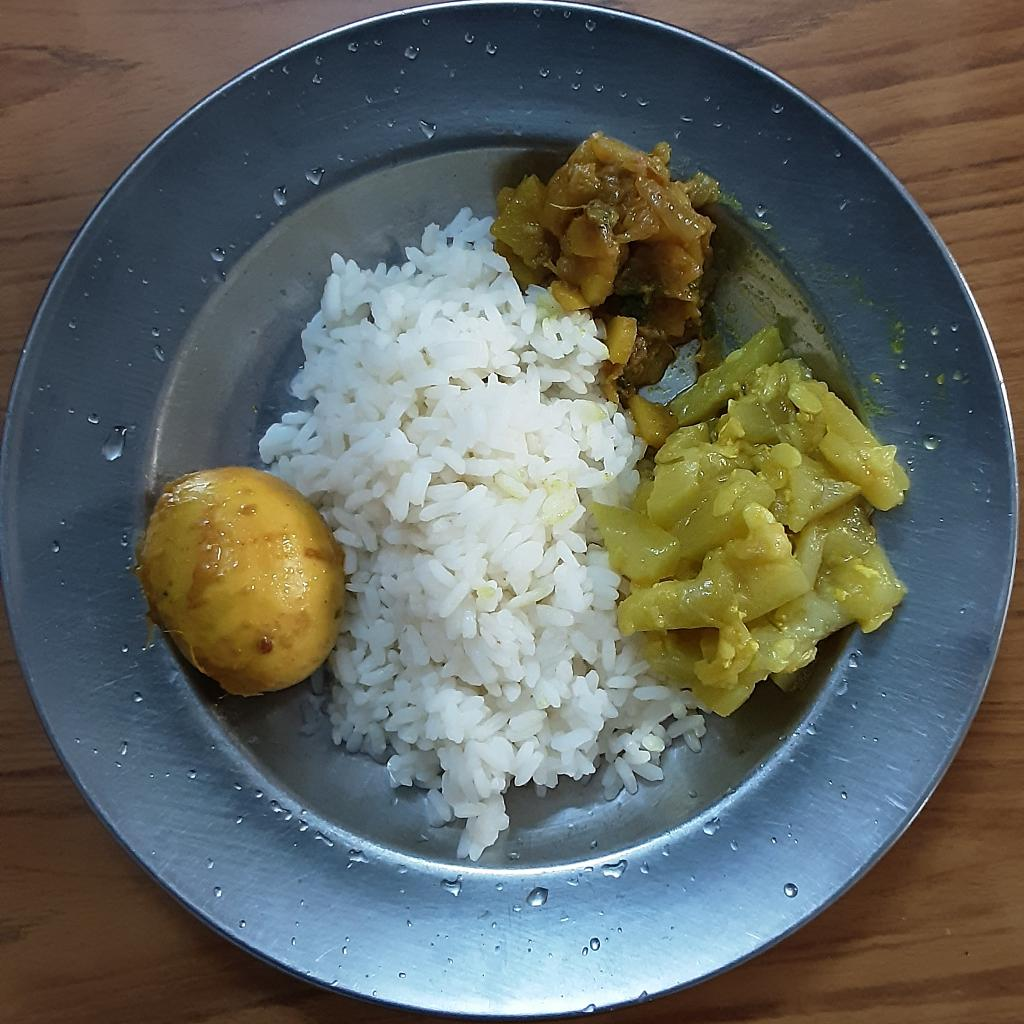egg-boiled: (136, 466, 345, 701)
lau: (595, 312, 913, 714)
papaya: (488, 135, 718, 437)
rice: (260, 204, 710, 863)
